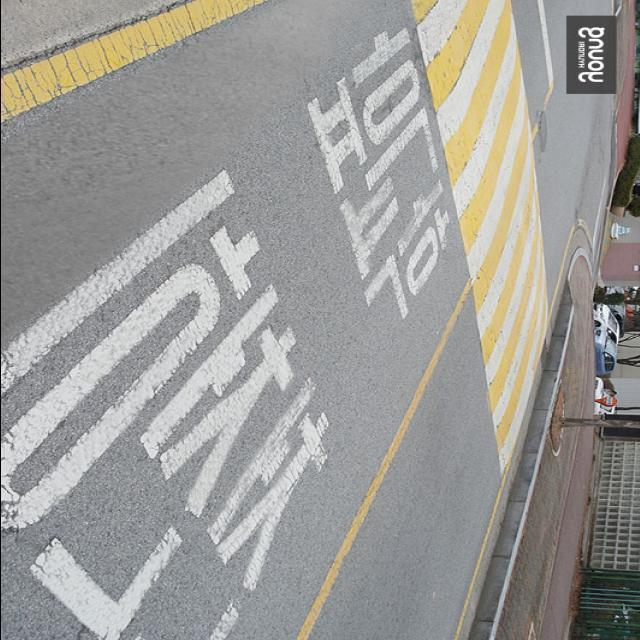speedbreaker: (408, 0, 560, 488)
